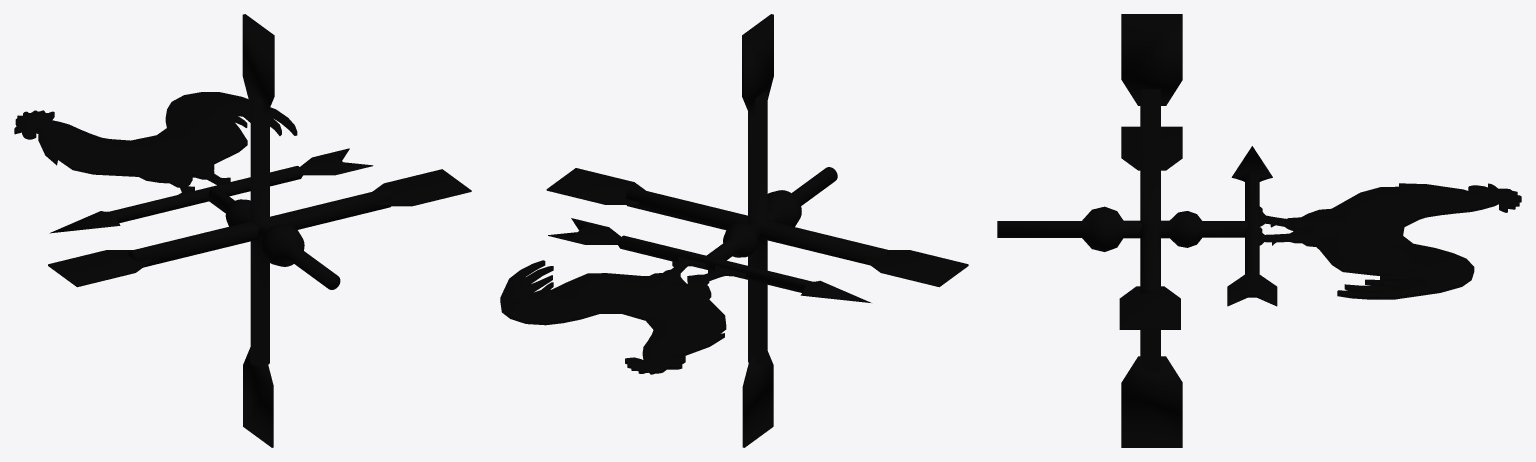
Rendered from veleta.dae.
3 views of the same model, side by side, from view 1: azimuth 30°, elevation 25°; view 2: azimuth 150°, elevation 25°; view 3: azimuth 270°, elevation 25° (orthographic). The views are drawn at different scales.
Parts seen in each view (by area): view 1: Cube; view 2: Cube; view 3: Cube.
Boxes of the visible parts, x1,y1,x2,y2 form: Cube: (14,14,471,447); Cube: (500,14,968,447); Cube: (997,14,1521,447).
Bounding box in the file's own units: 4.42 × 4.85 × 4.42.
1 material, 1 textured.
